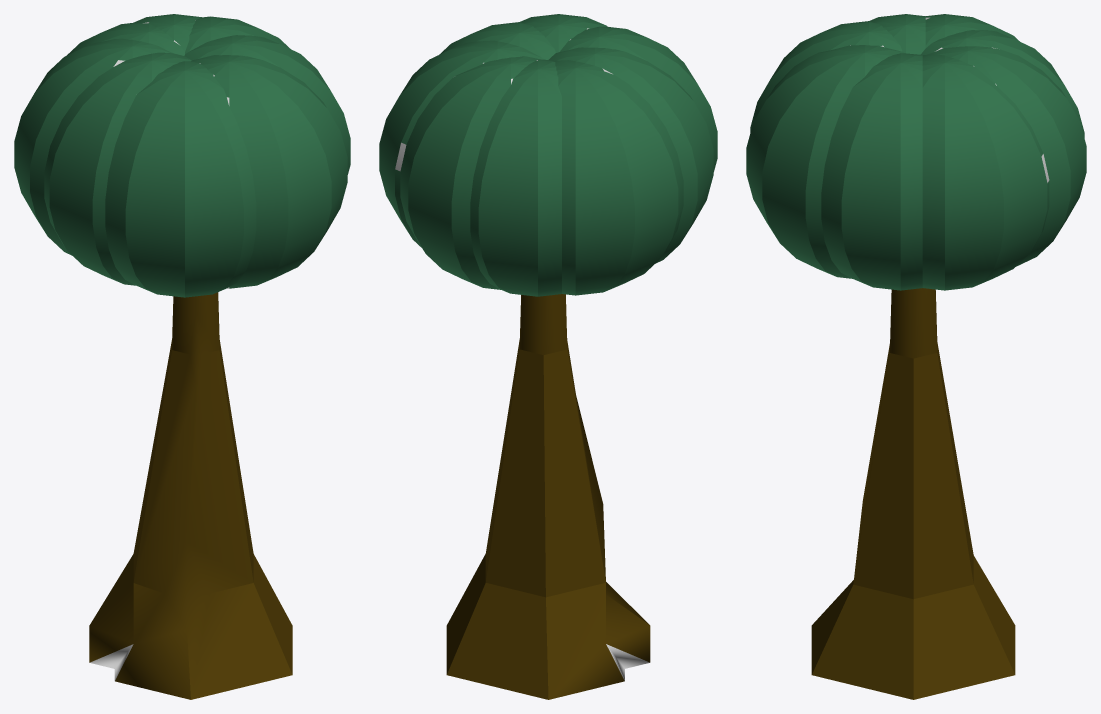
The model's file is Tree01.fbx.
3 renders of one model, left to right at view 1: azimuth 30°, elevation 25°; view 2: azimuth 150°, elevation 25°; view 3: azimuth 270°, elevation 25°, orthographic.
Visible parts, largest first — view 1: pSphere117.001; view 2: pSphere117.001; view 3: pSphere117.001.
Part boxes in pixels (x1,y1,x2,y2): pSphere117.001: (14,14,350,699); pSphere117.001: (379,14,717,699); pSphere117.001: (746,14,1086,699).
Bounding box in the file's own units: 1192 × 2429 × 1240.
